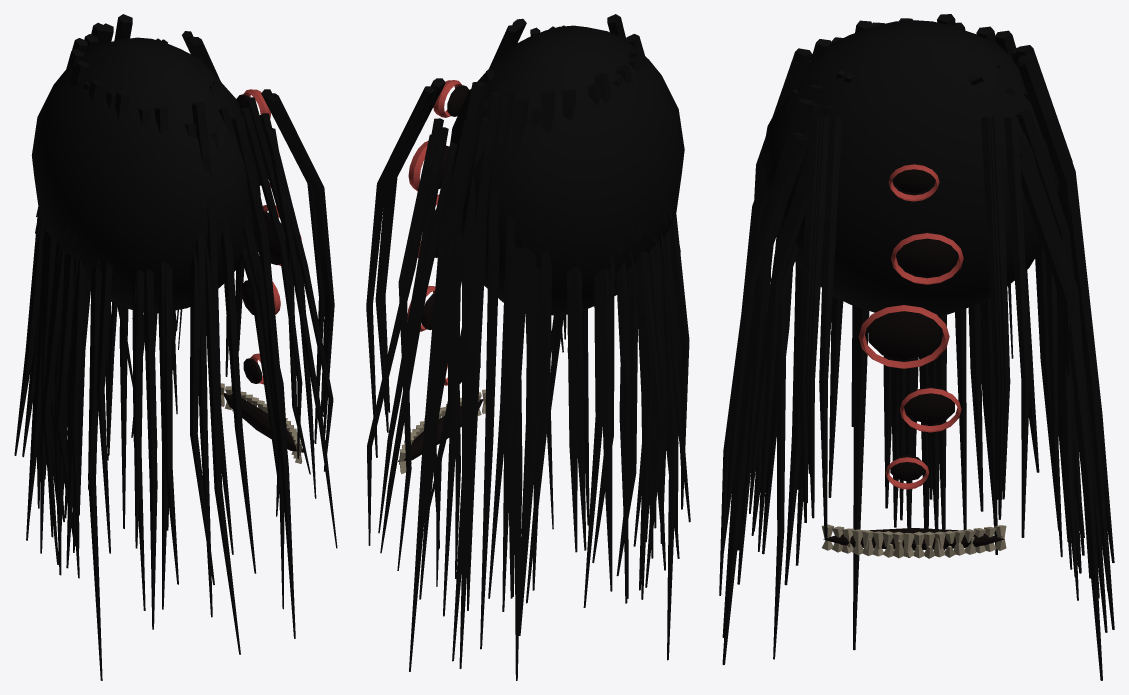
3 renders of one model, left to right at view 1: azimuth 30°, elevation 25°; view 2: azimuth 150°, elevation 25°; view 3: azimuth 270°, elevation 25°, orthographic. The views are drawn at different scales.
Parts seen in each view (by area): view 1: teil3, teil1, teil2, teil0; view 2: teil3, teil1, teil0, teil2; view 3: teil3, teil1, teil0, teil2.
Boxes of the visible parts, <box> form: teil3: <box>14,14,337,680</box>; teil1: <box>224,94,303,452</box>; teil2: <box>220,383,302,463</box>; teil0: <box>243,89,301,384</box>; teil3: <box>366,14,690,680</box>; teil1: <box>398,85,483,461</box>; teil0: <box>407,80,461,385</box>; teil2: <box>399,389,485,473</box>; teil3: <box>719,14,1114,680</box>; teil1: <box>823,162,1004,550</box>; teil0: <box>858,164,963,489</box>; teil2: <box>821,524,1006,558</box>.
Size of the model in its own units: 0.2377 by 0.5714 by 0.3104.
